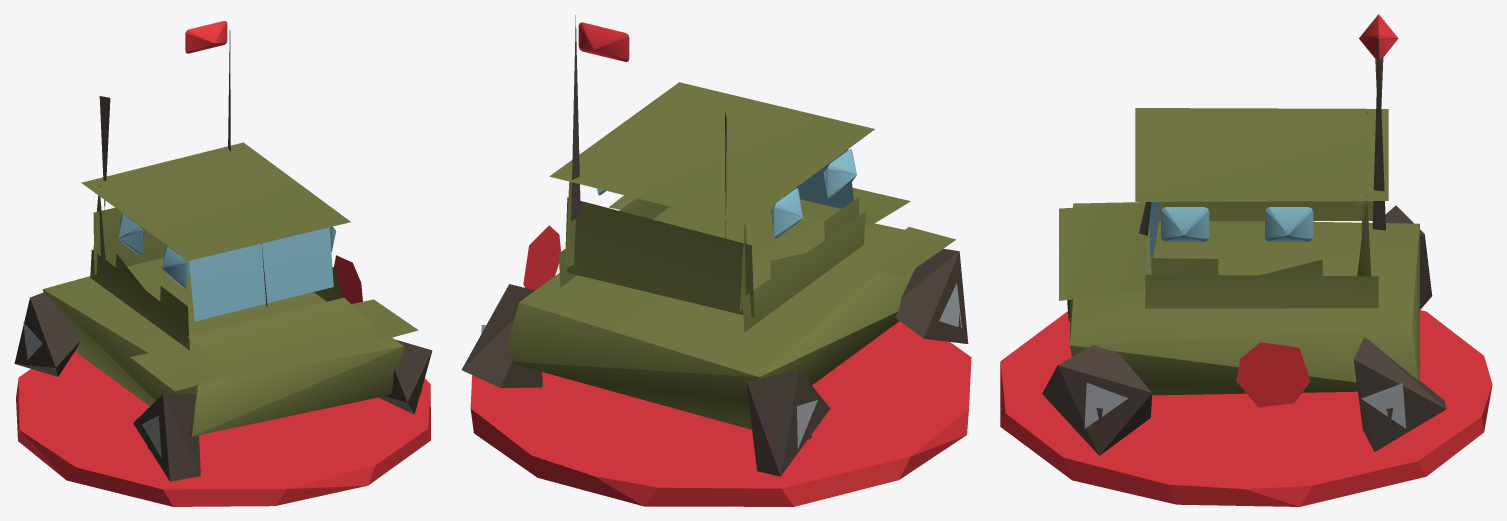
Rendered from japan_commander_lod1.glb.
3 renders of one model, left to right at view 1: azimuth 30°, elevation 25°; view 2: azimuth 150°, elevation 25°; view 3: azimuth 270°, elevation 25°, orthographic. The views are drawn at different scales.
Visible parts, largest first — view 1: body_hull, base_pedestal; view 2: body_hull, base_pedestal; view 3: body_hull, base_pedestal.
Boxes of the visible parts, x1=… form: body_hull: x1=14, y1=21, x2=432, y2=481; base_pedestal: x1=16, y1=352, x2=430, y2=506; body_hull: x1=461, y1=15, x2=968, y2=476; base_pedestal: x1=470, y1=321, x2=971, y2=506; body_hull: x1=1042, y1=14, x2=1446, y2=455; base_pedestal: x1=1000, y1=310, x2=1492, y2=506.
Size of the model in its own units: 0.7751 by 0.7101 by 0.7751.
